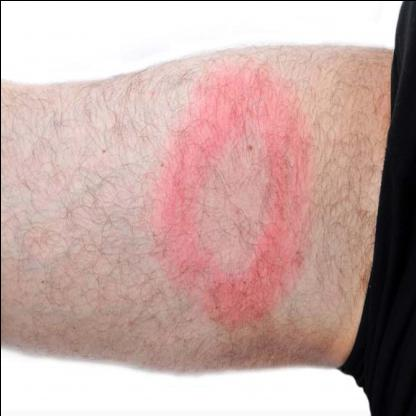Tick: (147, 52, 314, 333)
